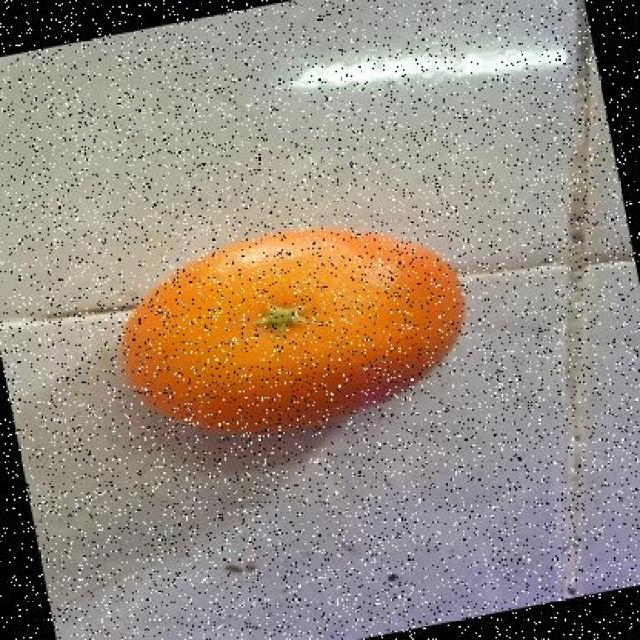Orange: (117, 223, 466, 437)
